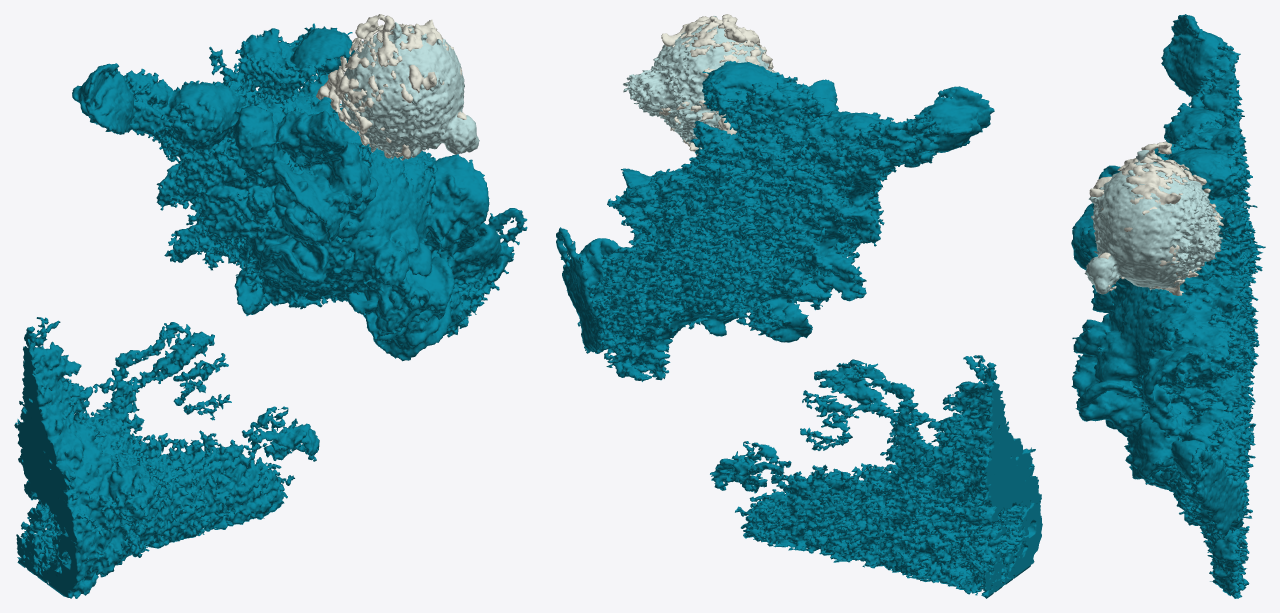
File: b12df82c-ed15-473a-b9aa-f1ccd97600ac_Eat_2.glb
3 renders of one model, left to right at view 1: azimuth 30°, elevation 25°; view 2: azimuth 150°, elevation 25°; view 3: azimuth 270°, elevation 25°, orthographic. The views are drawn at different scales.
Parts seen in each view (by area): view 1: surface (×3); view 2: surface (×3); view 3: surface (×3).
Boxes of the visible parts, bbox=[...] form: surface (×3): bbox=[14, 14, 527, 598]; surface (×3): bbox=[556, 14, 1042, 598]; surface (×3): bbox=[1071, 14, 1265, 598].
Bounding box in the file's own units: 523 × 524 × 190.
